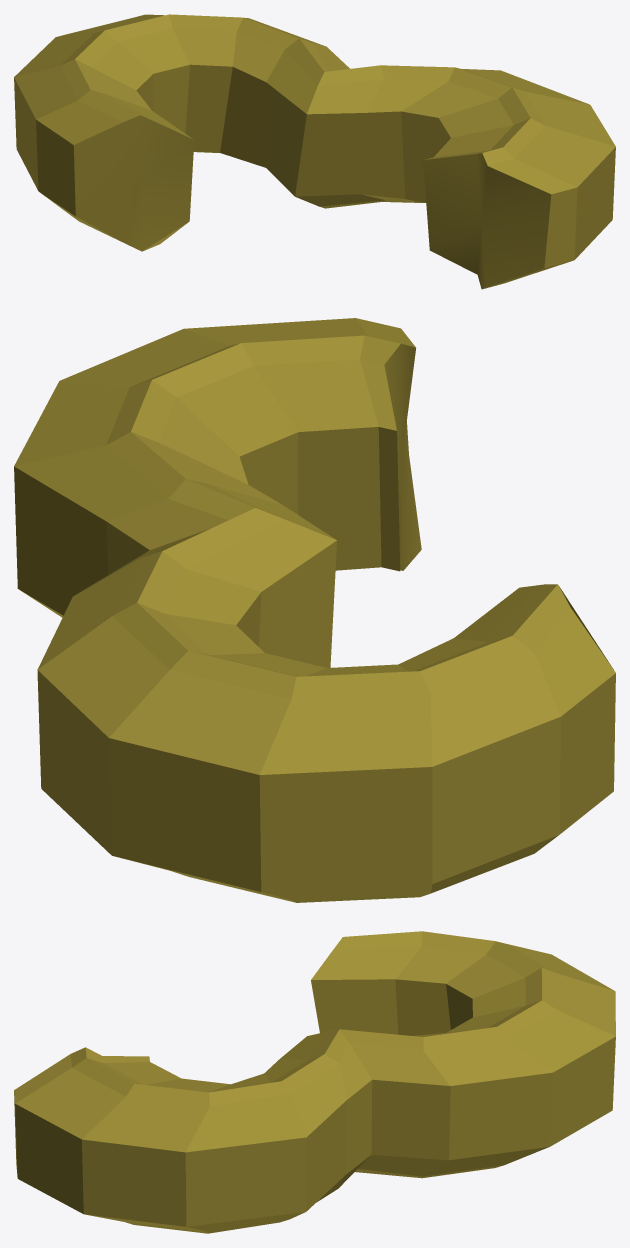
The model's file is Llave 4.fbx.
3 renders of one model, top to bottom at view 1: azimuth 30°, elevation 25°; view 2: azimuth 150°, elevation 25°; view 3: azimuth 270°, elevation 25°, orthographic. The views are drawn at different scales.
Visible parts, largest first — view 1: Llave_4; view 2: Llave_4; view 3: Llave_4.
Boxes of the visible parts, left/top/right/bottom form: Llave_4: left=14, top=14, right=615, bottom=289; Llave_4: left=14, top=318, right=615, bottom=902; Llave_4: left=14, top=931, right=615, bottom=1233.
Bounding box in the file's own units: 0.4166 × 0.1268 × 0.4903.
